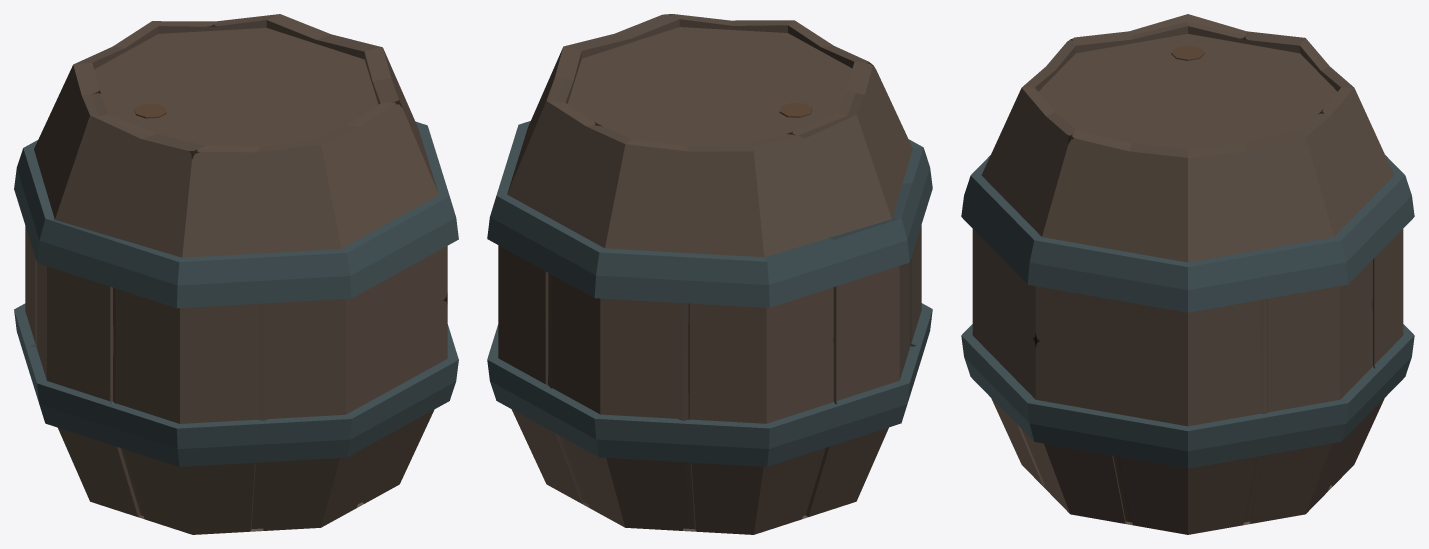
Rendered from Barrell.fbx.
3 renders of one model, left to right at view 1: azimuth 30°, elevation 25°; view 2: azimuth 150°, elevation 25°; view 3: azimuth 270°, elevation 25°, orthographic.
Parts seen in each view (by area): view 1: Barrell.002; view 2: Barrell.002; view 3: Barrell.002.
Boxes of the visible parts, x1,y1,x2,y2 form: Barrell.002: [14, 14, 458, 534]; Barrell.002: [487, 14, 932, 534]; Barrell.002: [961, 14, 1414, 534].
Bounding box in the file's own units: 1.5 × 1.39 × 1.5.
